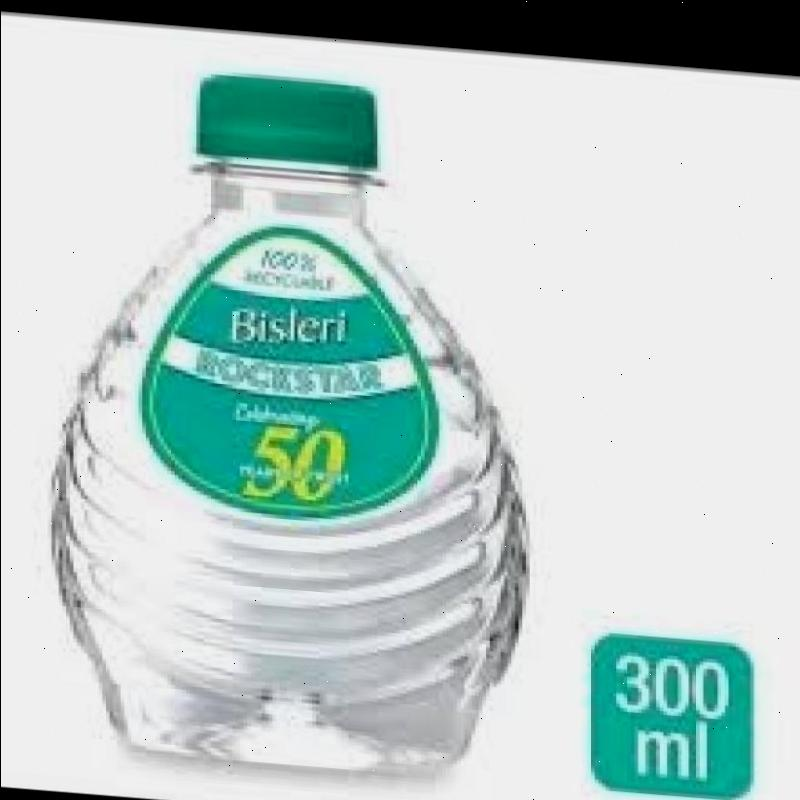botella: (43, 53, 532, 780)
